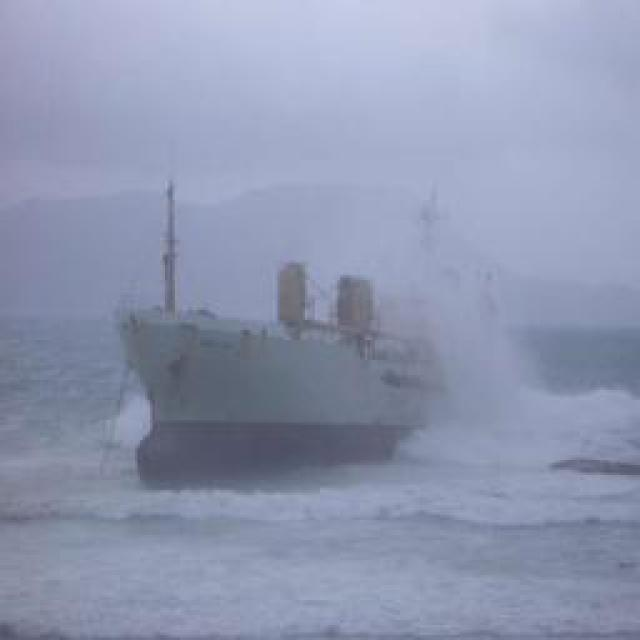Ship: (126, 264, 429, 469)
